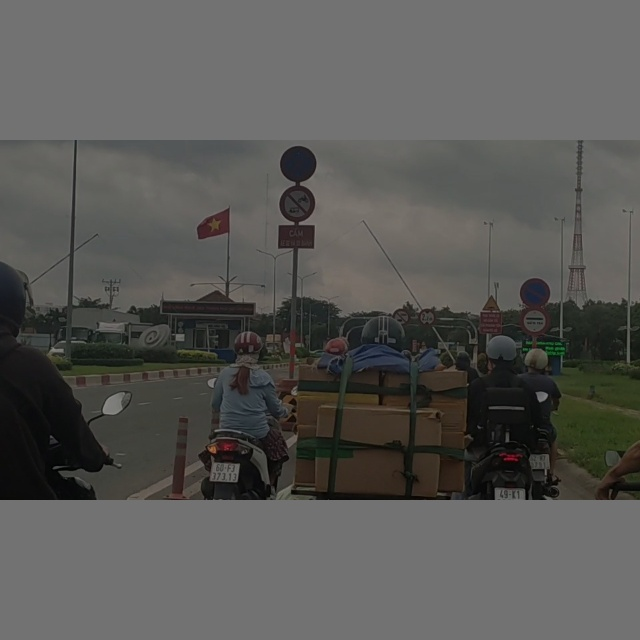P.107: (393, 309, 409, 325)
P.111: (279, 186, 315, 221)
P.117*: (419, 308, 436, 326)
P.129: (520, 307, 549, 335)
P.130: (280, 147, 317, 181)
P.131a: (520, 278, 551, 307)
W.221b: (483, 294, 501, 312)
